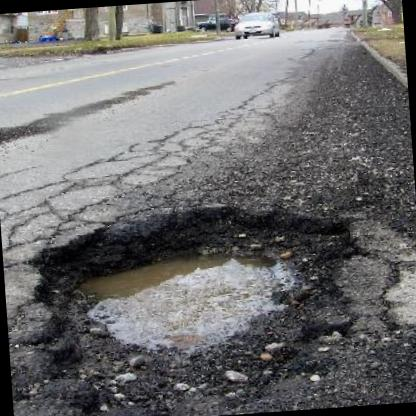pothole: (21, 193, 369, 416)
